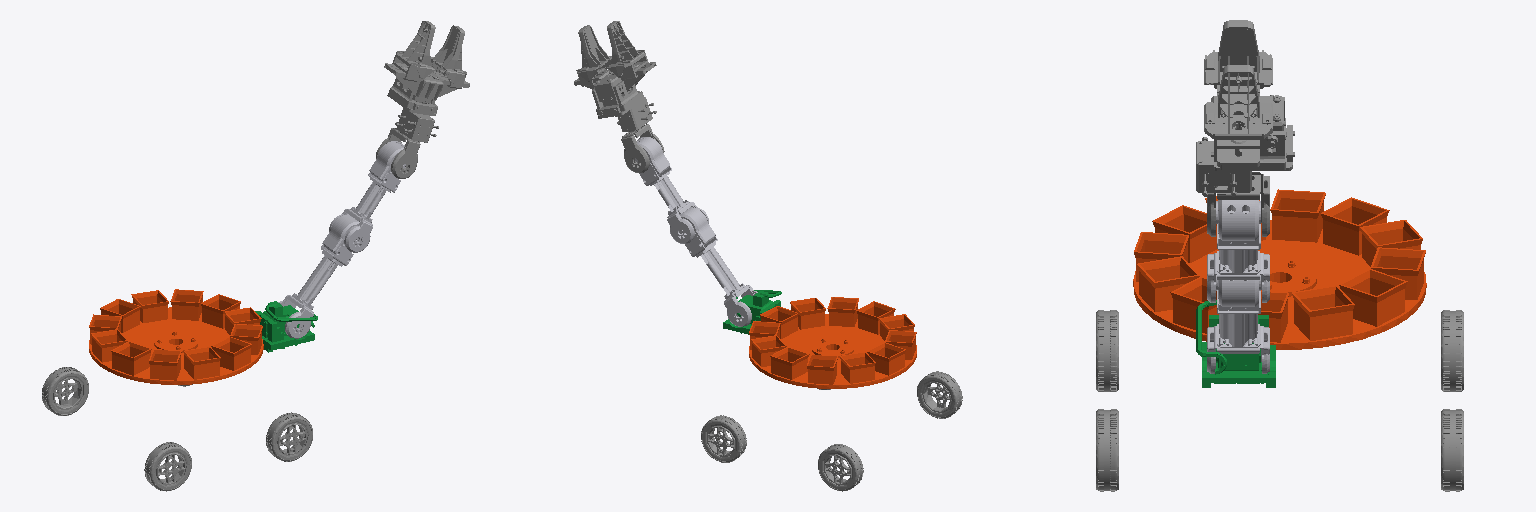
robot.urdf — v307_full_robot:
<?xml version="1.0"?>
<!-- v307_full_robot: make_urdf_usd.py가 생성(V303 통합본 + 상단 D435 실측 43.6도). SI 단위. -->
<!-- V307 몸체 + ROBOTIS OpenMANIPULATOR-X 팔 링크, 카메라 없음. scripts/make_robotis_arm_urdf.py로 생성 -->
<robot name="v307_full_robot">
  <link name="base_link">
    <inertial><origin xyz="0.0265994983 -0.00416343274 0.143001453" rpy="0 0 0"/><mass value="4.928111"/><inertia ixx="0.128475757" ixy="0.00310746603" ixz="0.0297249215" iyy="0.136089625" iyz="-0.00291734888" izz="0.081745089"/></inertial>
    <visual><origin xyz="0.048 0 0" rpy="0 0 0"/><geometry><mesh filename="package://craft_description/meshes/visual/robotis_arm/base_link.stl"/></geometry><material name="base_link_mat"><color rgba="0.93 0.36 0.1 1"/></material></visual>
    <collision><origin xyz="0.048 0 0" rpy="0 0 0"/><geometry><mesh filename="package://craft_description/meshes/collision/robotis_arm/base_link.stl"/></geometry></collision>
  </link>
  <link name="slide_link">
    <inertial><origin xyz="0.0146031475 -0.000185518595 0.0107615661" rpy="0 0 0"/><mass value="0.180426"/><inertia ixx="6.46258835e-05" ixy="6.54442244e-07" ixz="-1.22292275e-05" iyy="8.8552421e-05" iyz="1.25846815e-06" izz="8.39891282e-05"/></inertial>
    <visual><origin xyz="0 0 0" rpy="0 0 0"/><geometry><mesh filename="package://craft_description/meshes/visual/slide_link.stl"/></geometry><material name="slide_link_mat"><color rgba="0.12 0.6 0.29 1"/></material></visual>
    <collision><origin xyz="0 0 0" rpy="0 0 0"/><geometry><mesh filename="package://craft_description/meshes/collision/slide_link.stl"/></geometry></collision>
  </link>
  <link name="shoulder_link">
    <inertial><origin xyz="-0.00022413279 0.00038929816 0.11045959" rpy="0 0 0"/><mass value="0.132746"/><inertia ixx="0.00025155057" ixy="-1.155955e-08" ixz="2.6874417e-07" iyy="0.00024230292" iyz="-1.2764155e-06" izz="3.0654178e-05"/></inertial>
    <visual><origin xyz="0 0 0" rpy="0 -0 -3.58979303e-09"/><geometry><mesh filename="package://craft_description/meshes/visual/robotis_arm/shoulder_link.stl"/></geometry><material name="robotis_frame_mat"><color rgba="0.75 0.75 0.78 1"/></material></visual>
    <collision><origin xyz="0 0 0" rpy="0 -0 -3.58979303e-09"/><geometry><mesh filename="package://craft_description/meshes/collision/robotis_arm/shoulder_link.stl"/></geometry></collision>
  </link>
  <link name="elbow_link">
    <inertial><origin xyz="0.08920959 0.00038929816 0.00022413279" rpy="0 0 0"/><mass value="0.132746"/><inertia ixx="3.0654178e-05" ixy="-1.2764155e-06" ixz="-2.6874417e-07" iyy="0.00024230292" iyz="1.155955e-08" izz="0.00025155057"/></inertial>
    <visual><origin xyz="0 0 0" rpy="0 -0 -3.58979303e-09"/><geometry><mesh filename="package://craft_description/meshes/visual/robotis_arm/elbow_link.stl"/></geometry><material name="robotis_frame_mat"><color rgba="0.75 0.75 0.78 1"/></material></visual>
    <collision><origin xyz="0 0 0" rpy="0 -0 -3.58979303e-09"/><geometry><mesh filename="package://craft_description/meshes/collision/robotis_arm/elbow_link.stl"/></geometry></collision>
  </link>
  <link name="wrist_pitch_link">
    <inertial><origin xyz="0.0527721135 -0.0110430454 0.0010291429" rpy="0 0 0"/><mass value="0.106950"/><inertia ixx="4.07280297e-05" ixy="7.12437612e-06" ixz="-7.54690775e-07" iyy="6.12364003e-05" iyz="1.06765531e-07" izz="8.01961669e-05"/></inertial>
    <visual><origin xyz="0 0 0" rpy="0 -0 3.14159265"/><geometry><mesh filename="package://craft_description/meshes/visual/robotis_arm/wrist_pitch_link.stl"/></geometry><material name="wrist_pitch_link_mat"><color rgba="0.6 0.6 0.6 1"/></material></visual>
    <collision><origin xyz="0 0 0" rpy="0 -0 3.14159265"/><geometry><mesh filename="package://craft_description/meshes/collision/robotis_arm/wrist_pitch_link.stl"/></geometry></collision>
  </link>
  <link name="tool_roll_link">
    <inertial><origin xyz="0.0633232688 0.0107649027 0.00439792271" rpy="0 0 0"/><mass value="0.185754"/><inertia ixx="0.000108639397" ixy="6.61842098e-06" ixz="9.41784129e-07" iyy="0.000104458058" iyz="4.72304585e-07" izz="9.54443864e-05"/></inertial>
    <visual><origin xyz="0 0 0" rpy="0 -0 3.14159265"/><geometry><mesh filename="package://craft_description/meshes/visual/tool_roll_link.stl"/></geometry><material name="tool_roll_link_mat"><color rgba="0.6 0.6 0.6 1"/></material></visual>
    <collision><origin xyz="0 0 0" rpy="0 -0 3.14159265"/><geometry><mesh filename="package://craft_description/meshes/collision/robotis_arm/tool_roll_link.stl"/></geometry></collision>
  </link>
  <link name="jaw_upper_link">
    <inertial><origin xyz="-0.0100757218 -0.00932025313 -3.78063716e-07" rpy="0 0 0"/><mass value="0.033720"/><inertia ixx="9.71968369e-06" ixy="2.79876498e-06" ixz="3.81660979e-10" iyy="2.35547227e-05" iyz="3.71560373e-10" izz="1.8544007e-05"/></inertial>
    <visual><origin xyz="0 0 0" rpy="0 -0 3.14159265"/><geometry><mesh filename="package://craft_description/meshes/visual/robotis_arm/jaw_upper_link.stl"/></geometry><material name="jaw_upper_link_mat"><color rgba="0.6 0.6 0.6 1"/></material></visual>
    <collision><origin xyz="0 0 0" rpy="0 -0 3.14159265"/><geometry><mesh filename="package://craft_description/meshes/collision/robotis_arm/jaw_upper_link.stl"/></geometry></collision>
  </link>
  <link name="jaw_lower_link">
    <inertial><origin xyz="-0.0100671292 0.00932468131 5.30458247e-07" rpy="0 0 0"/><mass value="0.033752"/><inertia ixx="9.72314475e-06" ixy="-2.80212392e-06" ixz="-4.37566695e-10" iyy="2.35671712e-05" iyz="3.36421148e-10" izz="1.85567673e-05"/></inertial>
    <visual><origin xyz="0 0 0" rpy="0 -0 3.14159265"/><geometry><mesh filename="package://craft_description/meshes/visual/robotis_arm/jaw_lower_link.stl"/></geometry><material name="jaw_lower_link_mat"><color rgba="0.6 0.6 0.6 1"/></material></visual>
    <collision><origin xyz="0 0 0" rpy="0 -0 3.14159265"/><geometry><mesh filename="package://craft_description/meshes/collision/robotis_arm/jaw_lower_link.stl"/></geometry></collision>
  </link>
  <link name="carousel_link">
    <inertial><origin xyz="-8.65118615e-07 4.18767866e-08 0.0180728442" rpy="0 0 0"/><mass value="0.462981"/><inertia ixx="0.00191875563" ixy="1.1861596e-08" ixz="-1.52921136e-09" iyy="0.00191874242" iyz="3.46095429e-10" izz="0.00375982099"/></inertial>
    <visual><origin xyz="0 0 0" rpy="0 0 0"/><geometry><mesh filename="package://craft_description/meshes/visual/carousel_link.stl"/></geometry><material name="carousel_link_mat"><color rgba="0.93 0.36 0.1 1"/></material></visual>
    <collision><origin xyz="0 0 0" rpy="0 0 0"/><geometry><mesh filename="package://craft_description/meshes/collision/carousel_link.stl"/></geometry></collision>
  </link>
  <link name="front_left_wheel_link">
    <inertial><origin xyz="-8.51716159e-07 0.000573335072 1.61791874e-07" rpy="0 0 0"/><mass value="0.034646"/><inertia ixx="1.39365668e-05" ixy="5.22891579e-10" ixz="-3.01227733e-09" iyy="2.5863253e-05" iyz="6.30380469e-09" izz="1.39378743e-05"/></inertial>
    <visual><origin xyz="0 0 0" rpy="0 0 0"/><geometry><mesh filename="package://craft_description/meshes/visual/front_left_wheel_link.stl"/></geometry><material name="front_left_wheel_link_mat"><color rgba="0.6 0.6 0.6 1"/></material></visual>
    <collision><origin xyz="0 0 0" rpy="0 0 0"/><geometry><mesh filename="package://craft_description/meshes/collision/front_left_wheel_link.stl"/></geometry></collision>
  </link>
  <link name="front_right_wheel_link">
    <inertial><origin xyz="1.51977778e-06 -0.000573954923 -3.17608958e-06" rpy="0 0 0"/><mass value="0.034646"/><inertia ixx="1.39406688e-05" ixy="-6.62953286e-09" ixz="2.61855567e-10" iyy="2.58633473e-05" iyz="-3.3966145e-10" izz="1.39338108e-05"/></inertial>
    <visual><origin xyz="0 0 0" rpy="0 0 0"/><geometry><mesh filename="package://craft_description/meshes/visual/front_right_wheel_link.stl"/></geometry><material name="front_right_wheel_link_mat"><color rgba="0.6 0.6 0.6 1"/></material></visual>
    <collision><origin xyz="0 0 0" rpy="0 0 0"/><geometry><mesh filename="package://craft_description/meshes/collision/front_right_wheel_link.stl"/></geometry></collision>
  </link>
  <link name="rear_left_wheel_link">
    <inertial><origin xyz="8.62417446e-07 0.000573321985 -2.74013001e-07" rpy="0 0 0"/><mass value="0.034646"/><inertia ixx="1.39366064e-05" ixy="-5.20314191e-10" ixz="-2.96081123e-09" iyy="2.586332e-05" iyz="-6.30133135e-09" izz="1.39378951e-05"/></inertial>
    <visual><origin xyz="0 0 0" rpy="0 0 0"/><geometry><mesh filename="package://craft_description/meshes/visual/rear_left_wheel_link.stl"/></geometry><material name="rear_left_wheel_link_mat"><color rgba="0.6 0.6 0.6 1"/></material></visual>
    <collision><origin xyz="0 0 0" rpy="0 0 0"/><geometry><mesh filename="package://craft_description/meshes/collision/rear_left_wheel_link.stl"/></geometry></collision>
  </link>
  <link name="rear_right_wheel_link">
    <inertial><origin xyz="-1.54544912e-06 -0.000573947305 3.19833355e-06" rpy="0 0 0"/><mass value="0.034646"/><inertia ixx="1.39406539e-05" ixy="6.62647216e-09" ixz="2.44942251e-10" iyy="2.58633623e-05" iyz="3.42700833e-10" izz="1.3933837e-05"/></inertial>
    <visual><origin xyz="0 0 0" rpy="0 0 0"/><geometry><mesh filename="package://craft_description/meshes/visual/rear_right_wheel_link.stl"/></geometry><material name="rear_right_wheel_link_mat"><color rgba="0.6 0.6 0.6 1"/></material></visual>
    <collision><origin xyz="0 0 0" rpy="0 0 0"/><geometry><mesh filename="package://craft_description/meshes/collision/rear_right_wheel_link.stl"/></geometry></collision>
  </link>
  <joint name="lm_slide" type="prismatic"><parent link="base_link"/><child link="slide_link"/><origin xyz="0.1755 -0.0345 0.10195" rpy="0 0 0"/><axis xyz="0 1 0"/>
    <limit lower="-0.0507" upper="0.1041" effort="60.0" velocity="0.0513"/>
    <dynamics damping="0.01" friction="2.0"/></joint>
  <joint name="shoulder" type="revolute"><parent link="slide_link"/><child link="shoulder_link"/><origin xyz="0.035 0 0.01975" rpy="0 -1.57079633 -0"/><axis xyz="0 1 0"/>
    <limit lower="1.0891" upper="3.4784" effort="3.0" velocity="8.06"/>
    <dynamics damping="0.01" friction="0.05"/></joint>
  <joint name="elbow" type="revolute"><parent link="shoulder_link"/><child link="elbow_link"/><origin xyz="0 0 0.147" rpy="0 1.57079633 -0"/><axis xyz="0 -1 0"/>
    <limit lower="1.1677" upper="5.2098" effort="3.0" velocity="8.06"/>
    <dynamics damping="0.01" friction="0.05"/></joint>
  <joint name="wrist_pitch" type="revolute"><parent link="elbow_link"/><child link="wrist_pitch_link"/><origin xyz="0.122 0 0" rpy="3.14159265 1.2246468e-16 3.14159265"/><axis xyz="0 -1 0"/>
    <limit lower="1.4487" upper="5.2796" effort="3.0" velocity="8.06"/>
    <dynamics damping="0.01" friction="0.05"/></joint>
  <joint name="tool_roll" type="revolute"><parent link="wrist_pitch_link"/><child link="tool_roll_link"/><origin xyz="0.0430566601 0 1.43402885e-05" rpy="0 -0 0"/><axis xyz="0.997583329 0 0.0694802318"/>
    <limit lower="-6.2919" upper="4.6844" effort="3.0" velocity="8.06"/>
    <dynamics damping="0.01" friction="0.05"/></joint>
  <joint name="jaw_upper" type="prismatic"><parent link="tool_roll_link"/><child link="jaw_upper_link"/><origin xyz="0.103910877 -2.87908755e-09 -0.0138137884" rpy="1.57079645 0.0695341865 3.14159256"/><axis xyz="0 -1 0"/>
    <limit lower="-0.011" upper="0.02" effort="20.0" velocity="0.08"/>
  </joint>
  <joint name="jaw_lower" type="prismatic"><parent link="tool_roll_link"/><child link="jaw_lower_link"/><origin xyz="0.100992794 2.54878703e-09 0.0280847175" rpy="1.57079645 0.0695341865 3.14159256"/><axis xyz="0 1 0"/>
    <limit lower="-0.011" upper="0.02" effort="20.0" velocity="0.08"/>
  </joint>
  <joint name="carousel" type="continuous"><parent link="base_link"/><child link="carousel_link"/><origin xyz="0.045955 0 0.091554" rpy="0 -0 0.370009801"/><axis xyz="0 0 1"/>
    <limit effort="3.0" velocity="3.0"/>
    <dynamics damping="0.01" friction="0.05"/></joint>
  <joint name="front_left_wheel" type="continuous"><parent link="base_link"/><child link="front_left_wheel_link"/><origin xyz="0.146 0.144 0" rpy="0 0 0"/><axis xyz="0 1 0"/>
    <limit effort="3.0" velocity="8.06"/>
    <dynamics damping="0.01" friction="0.02"/></joint>
  <joint name="front_right_wheel" type="continuous"><parent link="base_link"/><child link="front_right_wheel_link"/><origin xyz="0.146 -0.144 0" rpy="0 0 0"/><axis xyz="0 1 0"/>
    <limit effort="3.0" velocity="8.06"/>
    <dynamics damping="0.01" friction="0.02"/></joint>
  <joint name="rear_left_wheel" type="continuous"><parent link="base_link"/><child link="rear_left_wheel_link"/><origin xyz="-0.05 0.144 0" rpy="0 0 0"/><axis xyz="0 1 0"/>
    <limit effort="3.0" velocity="8.06"/>
    <dynamics damping="0.01" friction="0.02"/></joint>
  <joint name="rear_right_wheel" type="continuous"><parent link="base_link"/><child link="rear_right_wheel_link"/><origin xyz="-0.05 -0.144 0" rpy="0 0 0"/><axis xyz="0 1 0"/>
    <limit effort="3.0" velocity="8.06"/>
    <dynamics damping="0.01" friction="0.02"/></joint>
  <link name="base_footprint"/>
  <joint name="base_footprint_joint" type="fixed"><parent link="base_link"/><child link="base_footprint"/><origin xyz="0 0 -0.034346" rpy="0 0 0"/></joint>
  <link name="front_laser"/>
  <joint name="front_laser_joint" type="fixed"><parent link="base_link"/><child link="front_laser"/><origin xyz="0.23867 2e-05 0.0567" rpy="0 0 0"/></joint>
  <link name="rear_laser"/>
  <joint name="rear_laser_joint" type="fixed"><parent link="base_link"/><child link="rear_laser"/><origin xyz="-0.06767 0 0.0507" rpy="0 -0 3.14159265"/></joint>
  <link name="imu_link"/>
  <joint name="imu_link_joint" type="fixed"><parent link="base_link"/><child link="imu_link"/><origin xyz="0.0125 0.0895 0.03512" rpy="0 0 0"/></joint>
  <link name="tcp"/>
  <joint name="tcp_joint" type="fixed"><parent link="tool_roll_link"/><child link="tcp"/><origin xyz="0.146644784 -4.49724339e-09 0.0102133474" rpy="0 0.0695362563 -3.14159265"/></joint>
</robot>

--- What the picture shows (computed from the rendered views, not written in the file) ---
Views: 3 orthographic renders of the robot side by side, from view 1: azimuth 30°, elevation 25°; view 2: azimuth 150°, elevation 25°; view 3: azimuth 270°, elevation 25°.
Model v307_full_robot with 18 links and 17 joints (4 revolute, 5 continuous, 3 prismatic, 5 fixed), rooted at base_link, posed all joints at 0 but 3 set to mid-range because 0 is outside their limits (shoulder = 2.28, elbow = 3.19, wrist_pitch = 3.36).
Visible links, largest first — view 1: carousel_link, shoulder_link, elbow_link, tool_roll_link, wrist_pitch_link, rear_right_wheel_link, rear_left_wheel_link, front_right_wheel_link, slide_link, jaw_lower_link, jaw_upper_link; view 2: carousel_link, shoulder_link, elbow_link, tool_roll_link, wrist_pitch_link, front_left_wheel_link, rear_right_wheel_link, rear_left_wheel_link, jaw_lower_link, jaw_upper_link, slide_link; view 3: carousel_link, elbow_link, jaw_upper_link, shoulder_link, wrist_pitch_link, tool_roll_link, slide_link, jaw_lower_link, front_left_wheel_link, front_right_wheel_link, rear_left_wheel_link, rear_right_wheel_link.
Link boxes in pixels (<box>): carousel_link: <box>89,289,263,384</box>; shoulder_link: <box>278,214,360,338</box>; elbow_link: <box>329,141,405,252</box>; tool_roll_link: <box>384,63,469,115</box>; wrist_pitch_link: <box>376,108,438,178</box>; rear_right_wheel_link: <box>144,442,191,491</box>; rear_left_wheel_link: <box>42,367,88,415</box>; front_right_wheel_link: <box>266,412,312,461</box>; slide_link: <box>255,301,317,352</box>; jaw_lower_link: <box>392,21,435,81</box>; jaw_upper_link: <box>431,25,466,88</box>; carousel_link: <box>749,297,916,388</box>; shoulder_link: <box>679,207,757,326</box>; elbow_link: <box>635,137,708,243</box>; tool_roll_link: <box>574,62,656,118</box>; wrist_pitch_link: <box>615,97,664,173</box>; front_left_wheel_link: <box>701,415,746,462</box>; rear_right_wheel_link: <box>917,371,962,418</box>; rear_left_wheel_link: <box>818,444,863,491</box>; jaw_lower_link: <box>607,21,648,79</box>; jaw_upper_link: <box>576,25,611,86</box>; slide_link: <box>723,290,781,334</box>; carousel_link: <box>1133,189,1426,349</box>; elbow_link: <box>1207,200,1269,302</box>; jaw_upper_link: <box>1204,65,1272,155</box>; shoulder_link: <box>1207,275,1269,373</box>; wrist_pitch_link: <box>1196,137,1269,236</box>; tool_roll_link: <box>1211,83,1294,170</box>; slide_link: <box>1196,300,1275,387</box>; jaw_lower_link: <box>1204,20,1272,88</box>; front_left_wheel_link: <box>1441,409,1463,491</box>; front_right_wheel_link: <box>1096,409,1118,491</box>; rear_left_wheel_link: <box>1441,310,1463,391</box>; rear_right_wheel_link: <box>1096,310,1118,391</box>.
Size in the robot's own frame: 0.577 by 0.308 by 0.5636 metres.
Meshes: 13 distinct files referenced, 12 mesh visuals loaded (12 binary STL); not drawn: 1 (reference not matched to a file when rendering).
